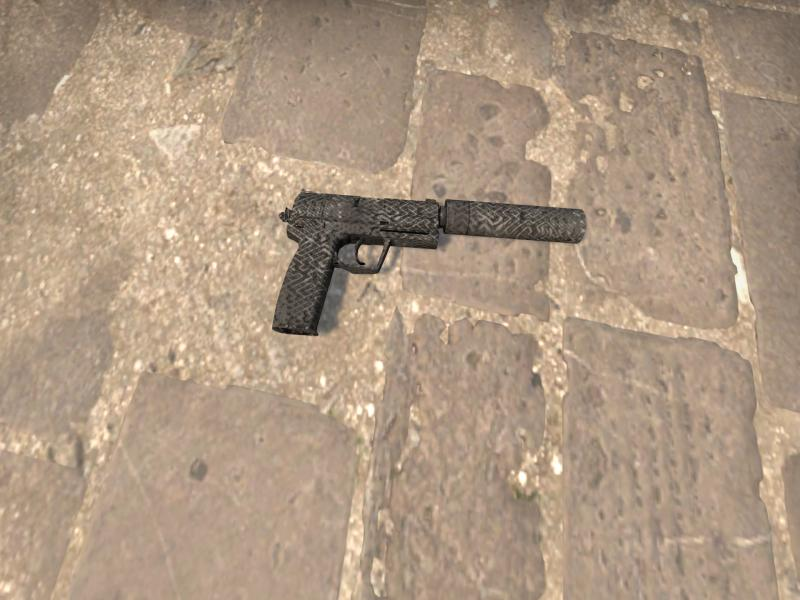USP: (272, 189, 587, 335)
